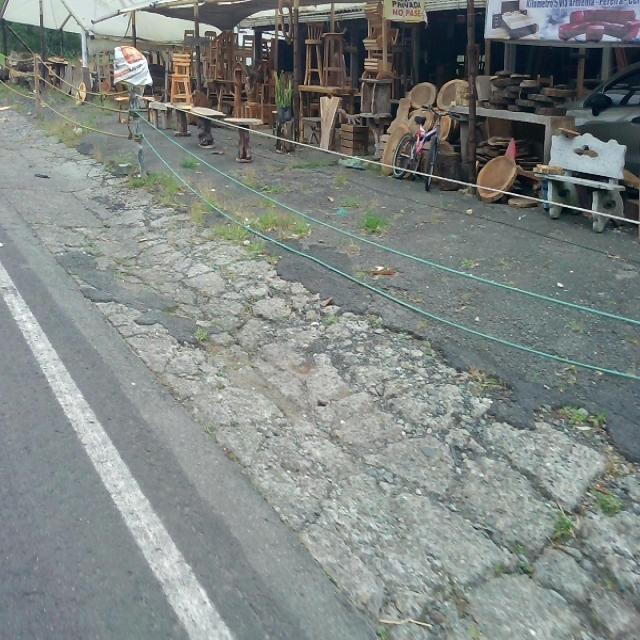DITCH: (1, 34, 638, 636), (2, 90, 638, 639)
